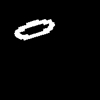chain: (15, 19, 54, 39)
